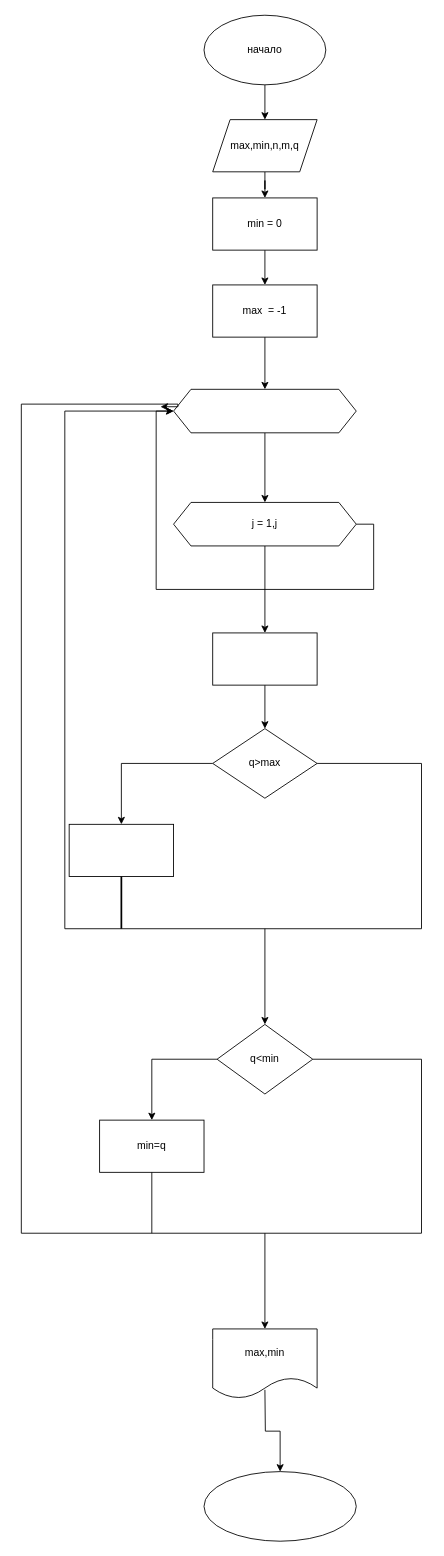
The diagram is 444 pixels wide and 1556 high, and some of its shapes have lost their labels. Each missing label, with the box of its shape:
i = 1,n: (173, 388, 356, 433)
max = q: (68, 823, 174, 877)
q = Int(100 * Rnd): (212, 632, 317, 685)
конец: (203, 1471, 356, 1541)
